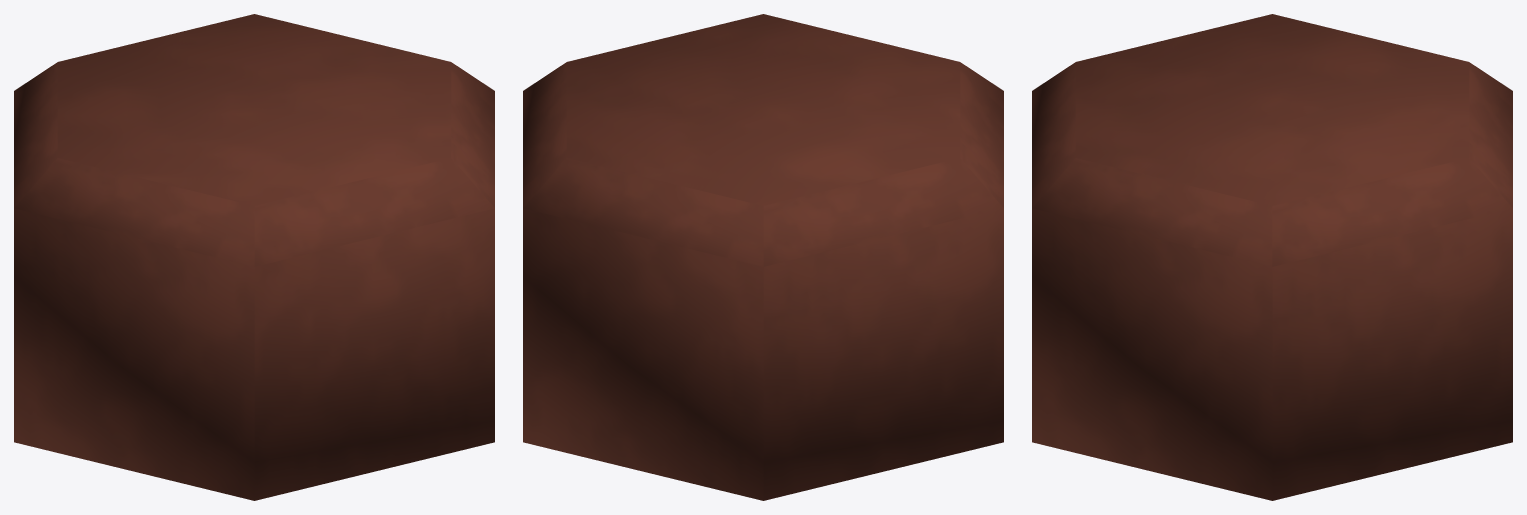
Rendered from Cake_C_01.FBX.
The picture shows the model from 3 angles, left to right: view 1: azimuth 30°, elevation 25°; view 2: azimuth 150°, elevation 25°; view 3: azimuth 270°, elevation 25°; orthographic projection.
Parts seen in each view (by area): view 1: Cake_D; view 2: Cake_D; view 3: Cake_D.
Part boxes in pixels (<box>): Cake_D: <box>14,14,494,500</box>; Cake_D: <box>523,14,1003,500</box>; Cake_D: <box>1032,14,1512,500</box>.
Size of the model in its own units: 102 by 55.58 by 88.51.
